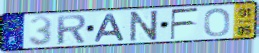3: (28, 14, 54, 48)
A: (93, 13, 127, 43)
F: (169, 7, 200, 42)
N: (128, 9, 160, 43)
O: (203, 7, 232, 38)
R: (55, 13, 88, 46)
